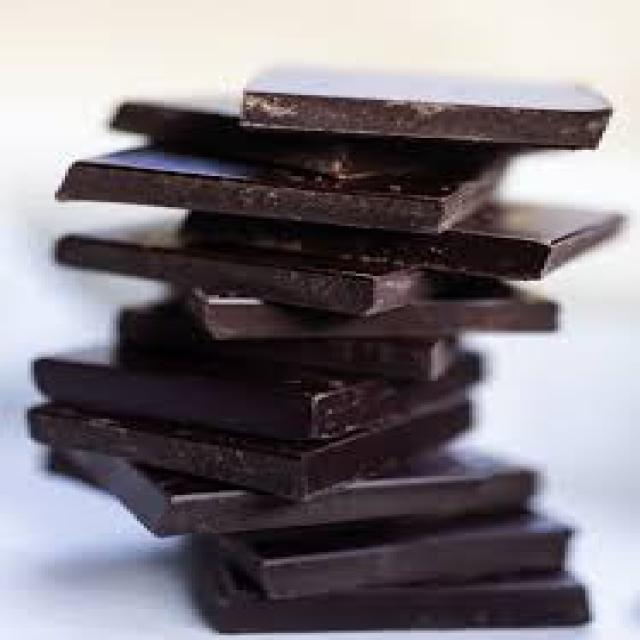Chocolate: (25, 56, 625, 634)
